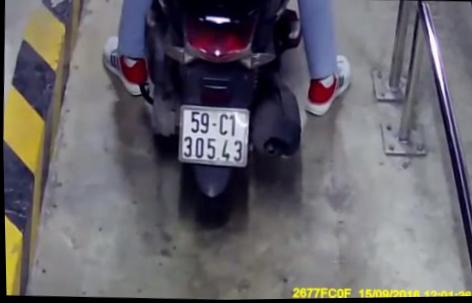LP: (175, 102, 252, 170)
